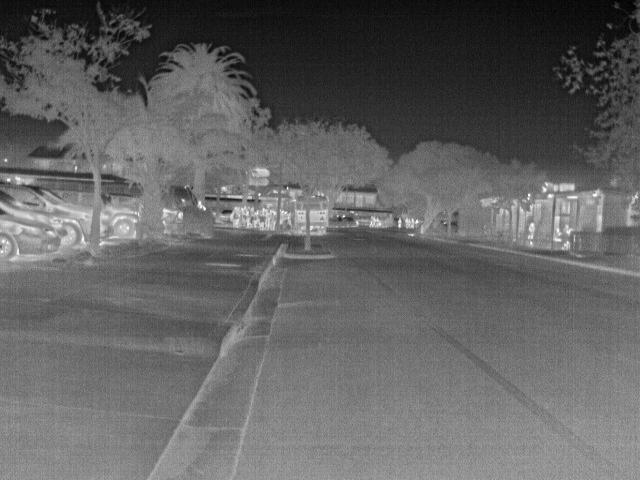car: (1, 181, 95, 248), (2, 207, 61, 262), (103, 201, 139, 241), (162, 205, 182, 228), (220, 208, 235, 222)
person: (559, 223, 575, 249), (524, 219, 536, 245), (551, 227, 565, 243)
